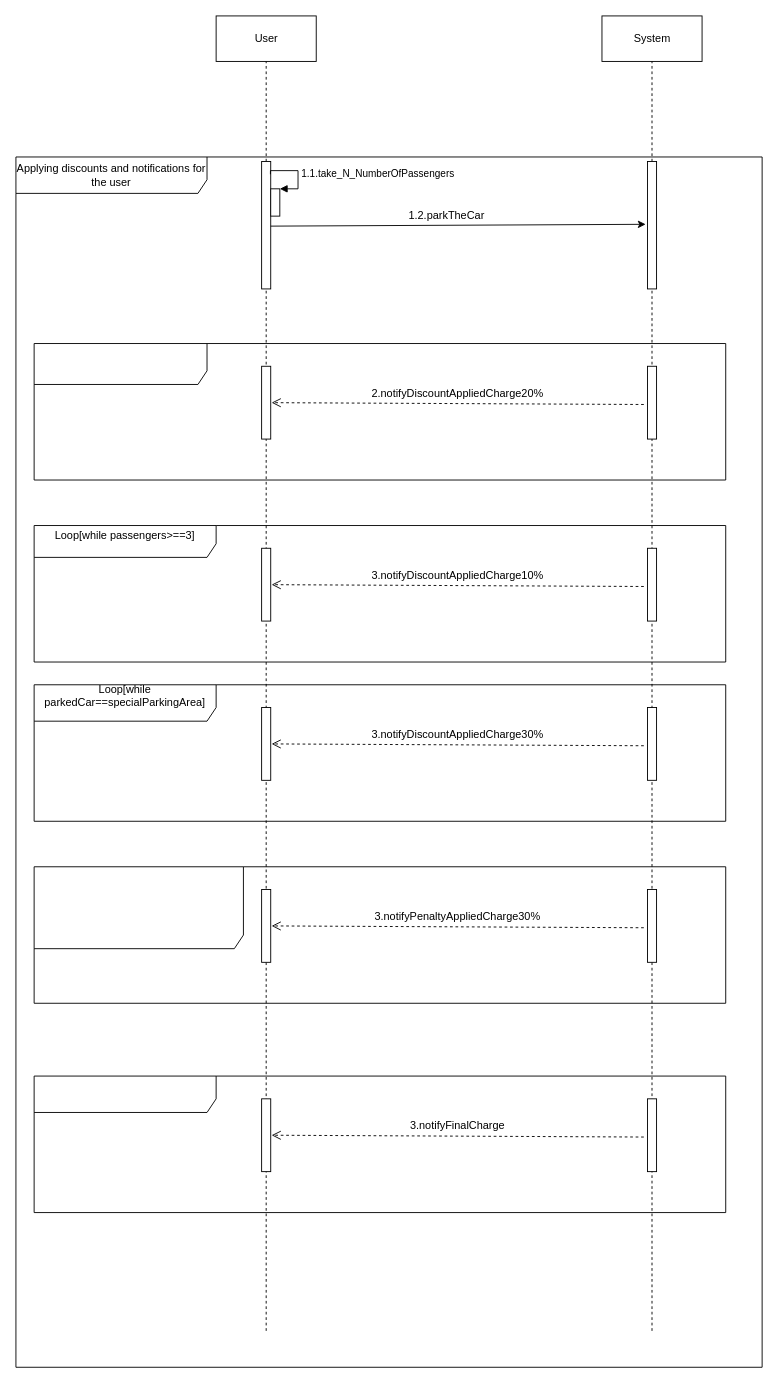
The diagram is 778 pixels wide and 1383 high, and some of its shapes have lost their labels. Each missing label, with the centre of its shape:
"alt" goes at point 379,1144.
"Loop[while (parkedCarDistanceFromNearest PowerStation >3) || (batteryStatus<20)]" goes at point 379,934.
"Loop[while battery status>==50]" goes at point 379,411.
